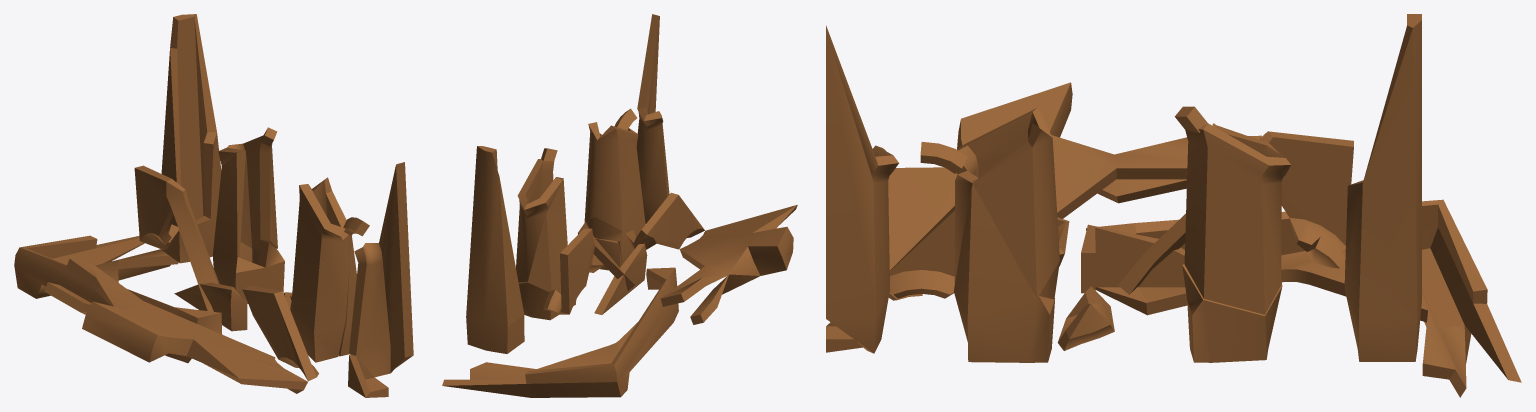
File: co's Ruins.fbx
The picture shows the model from 3 angles, left to right: view 1: azimuth 30°, elevation 25°; view 2: azimuth 150°, elevation 25°; view 3: azimuth 270°, elevation 25°; orthographic projection. The views are drawn at different scales.
Visible parts, largest first — view 1: shard3, shard14, shard10, shard1, shard2, shard4, shard13, shard7, shard12, shard9, shard17, shard16 (+1 smaller); view 2: shard2, shard14, shard3, shard1, shard10, shard4, shard7, shard13, shard12, shard9, shard16; view 3: shard14, shard7, shard3, shard2, shard10, shard1, shard16, shard13, shard4, shard9, shard12, shard15 (+2 smaller).
Boxes of the visible parts, bbox=[...] form: shard3: bbox=[44, 258, 307, 393]; shard14: bbox=[161, 14, 221, 263]; shard10: bbox=[349, 162, 413, 377]; shard1: bbox=[290, 177, 351, 362]; shard2: bbox=[14, 235, 222, 363]; shard4: bbox=[212, 150, 284, 303]; shard13: bbox=[134, 165, 219, 311]; shard7: bbox=[218, 135, 277, 248]; shard12: bbox=[242, 285, 318, 381]; shard9: bbox=[174, 282, 247, 331]; shard17: bbox=[348, 355, 388, 397]; shard16: bbox=[338, 238, 356, 356]; shard2: bbox=[442, 267, 678, 397]; shard14: bbox=[466, 146, 524, 353]; shard3: bbox=[660, 205, 797, 324]; shard1: bbox=[584, 122, 645, 264]; shard10: bbox=[636, 14, 669, 223]; shard4: bbox=[518, 177, 576, 320]; shard7: bbox=[516, 159, 563, 282]; shard13: bbox=[543, 228, 634, 314]; shard12: bbox=[625, 192, 704, 249]; shard9: bbox=[594, 243, 647, 314]; shard16: bbox=[578, 222, 621, 270]; shard14: bbox=[1344, 14, 1421, 361]; shard7: bbox=[1184, 123, 1290, 314]; shard3: bbox=[888, 82, 1261, 300]; shard2: bbox=[1086, 199, 1521, 397]; shard10: bbox=[826, 25, 898, 353]; shard1: bbox=[954, 108, 1059, 299]; shard16: bbox=[953, 178, 1054, 362]; shard13: bbox=[1118, 131, 1353, 294]; shard4: bbox=[1182, 123, 1282, 362]; shard9: bbox=[1081, 224, 1185, 293]; shard12: bbox=[889, 206, 1069, 298]; shard15: bbox=[1057, 286, 1114, 350].
Size of the model in its own units: 15.35 by 15.56 by 26.
